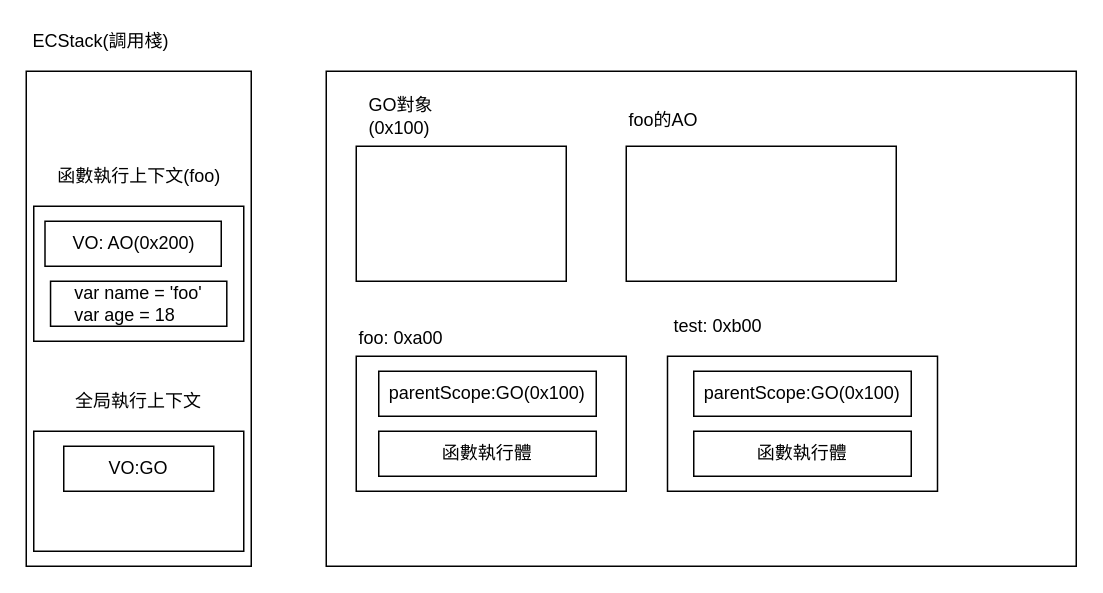
Some shapes in this 1103 by 593 pixel diagram are drawn without their labels. The centre of each missing label's shape, as x and y in pixels:
Date String window foo: 0xa00 test: 0xb00: the point at 460,213
name: foo age: 18: the point at 760,213
